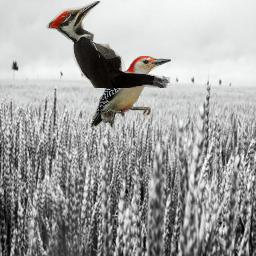Woodpecker: (42, 1, 170, 88), (90, 56, 171, 128)
